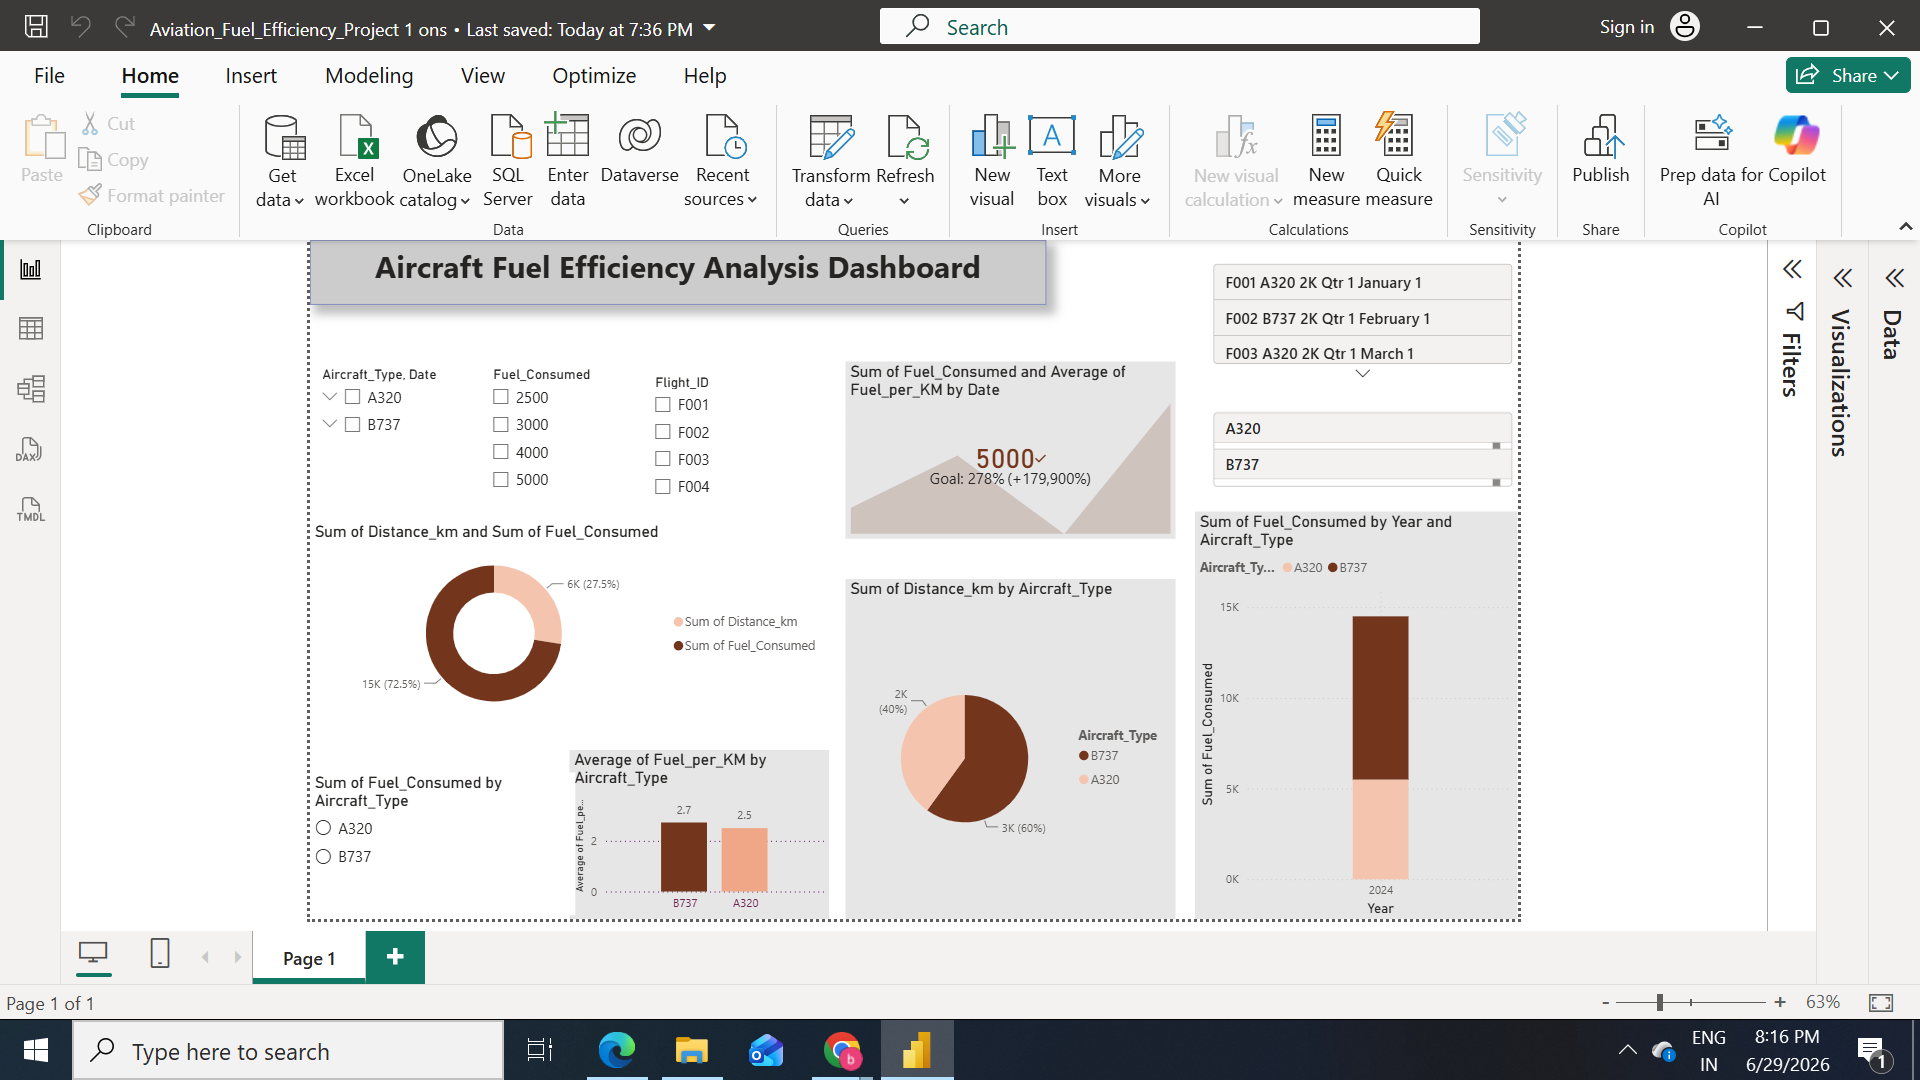

What the dashboard file says about the page in this screenshot:
{"tool":"powerbi","page":{"name":"Page 1","canvas":[1280,720],"ordinal":0},"visuals":[{"type":"clusteredColumnChart","fields":{"Category":["Sheet1.Aircraft_Type"],"Y":["Avg(Sheet1.Fuel_per_KM)"]},"box":[275.2,540.8,275.2,179.7],"z":0},{"type":"textbox","box":[0,0,781,68.4],"z":1000},{"type":"pieChart","fields":{"Category":["Sheet1.Aircraft_Type"],"Y":["Sum(Sheet1.Distance_km)"]},"box":[567.8,359.5,349.9,361.1],"z":2000},{"type":"kpi","fields":{"TrendLine":["Sheet1.Date"],"Indicator":["Sum(Sheet1.Fuel_Consumed)"],"Goal":["Avg(Sheet1.Fuel_per_KM)"]},"box":[567.8,128.8,349.9,187.7],"z":3000},{"type":"cardVisual","fields":{"Rows":["Sheet1.Aircraft_Type"]},"box":[952.8,157.5,327.7,130.4],"z":4000},{"type":"lineStackedColumnComboChart","fields":{"Category":["Sheet1.Date.Variation.Date Hierarchy.Year","Sheet1.Date.Variation.Date Hierarchy.Quarter","Sheet1.Date.Variation.Date Hierarchy.Month","Sheet1.Date.Variation.Date Hierarchy.Day"],"Series":["Sheet1.Aircraft_Type"],"Y":["Sum(Sheet1.Fuel_Consumed)"]},"box":[938.5,287.9,342,432.6],"z":5000},{"type":"cardVisual","fields":{"Rows":["Sheet1.Flight_ID","Sheet1.Aircraft_Type","Sheet1.Date.Variation.Date Hierarchy.Year","Sheet1.Date.Variation.Date Hierarchy.Quarter","Sheet1.Date.Variation.Date Hierarchy.Month","Sheet1.Date.Variation.Date Hierarchy.Day"]},"box":[952.8,0,327.7,157.5],"z":6000},{"type":"slicer","fields":{"Values":["Sheet1.Aircraft_Type","Sheet1.Date"]},"box":[0,128.8,181.3,93.8],"z":7000},{"type":"slicer","fields":{"Values":["Sheet1.Flight_ID"]},"box":[353.1,136.8,103.4,151.1],"z":8000},{"type":"slicer","fields":{"Values":["Sheet1.Fuel_Consumed"]},"box":[181.3,128.8,157.5,149.5],"z":9000},{"type":"listSlicer","fields":{"Values":["Sheet1.Aircraft_Type"]},"box":[0,564.7,281.5,151.1],"z":10000},{"type":"donutChart","fields":{"Y":["Sum(Sheet1.Distance_km)","Sum(Sheet1.Fuel_Consumed)"]},"box":[0,299,550.4,216.3],"z":11000}]}

Visuals, with their boxes on the page's 1280x720 design canvas (x1, y1, x2, y2). These are canvas units, not pixel positions in the 1920x1080 screenshot, which may show the page scaled, cropped or inside an application window:
clusteredColumnChart - Sheet1.Aircraft_Type x Avg(Sheet1.Fuel_per_KM): <box>275,541,550,720</box>
textbox: <box>0,0,781,68</box>
pieChart - Sheet1.Aircraft_Type x Sum(Sheet1.Distance_km): <box>568,360,918,721</box>
kpi - Sheet1.Date x Sum(Sheet1.Fuel_Consumed): <box>568,129,918,316</box>
cardVisual - Sheet1.Aircraft_Type: <box>953,158,1280,288</box>
lineStackedColumnComboChart - Sheet1.Date.Variation.Date Hierarchy.Year x Sheet1.Date.Variation.Date Hierarchy.Quarter: <box>938,288,1280,720</box>
cardVisual - Sheet1.Flight_ID x Sheet1.Aircraft_Type: <box>953,0,1280,158</box>
slicer - Sheet1.Aircraft_Type x Sheet1.Date: <box>0,129,181,223</box>
slicer - Sheet1.Flight_ID: <box>353,137,456,288</box>
slicer - Sheet1.Fuel_Consumed: <box>181,129,339,278</box>
listSlicer - Sheet1.Aircraft_Type: <box>0,565,282,716</box>
donutChart - Sum(Sheet1.Distance_km) x Sum(Sheet1.Fuel_Consumed): <box>0,299,550,515</box>
